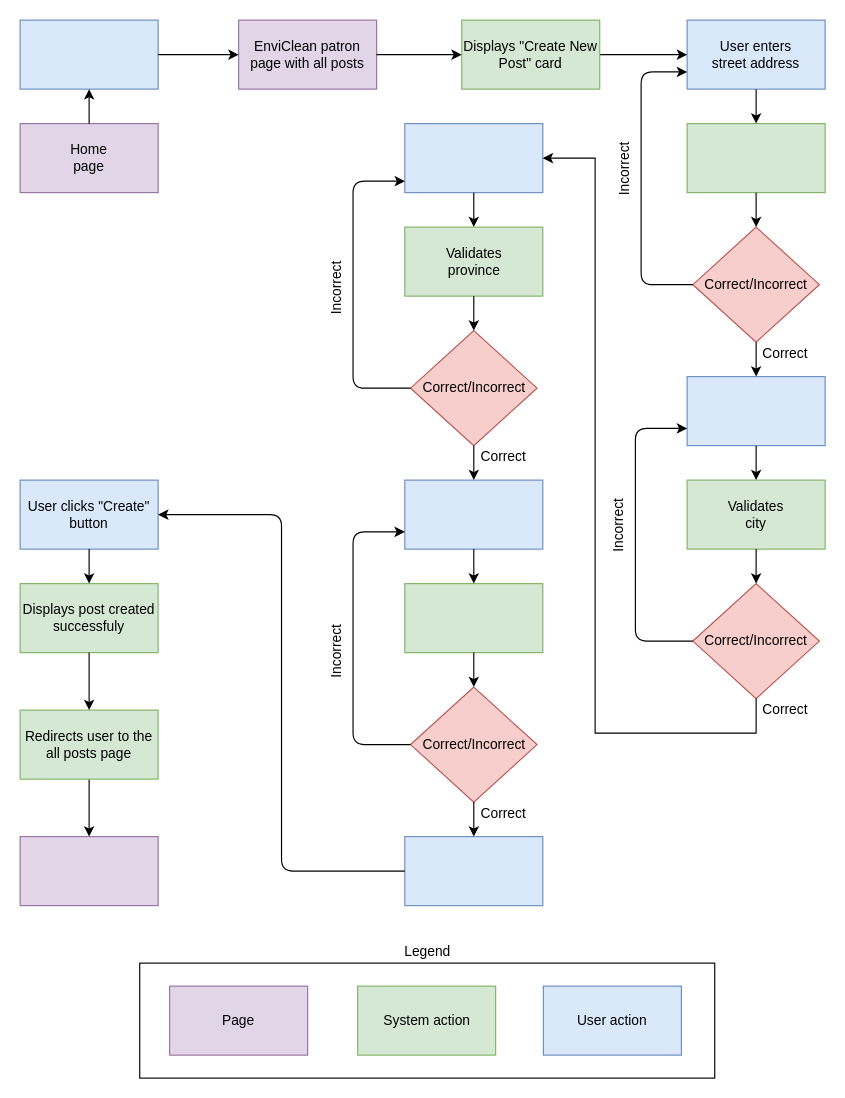
Image size: 845x1098. Some labels were removed from this diagram. Here are the shapes that lost their labels. From the top down, the box of each, then its label:
(19, 19, 158, 89): User clicks on "EnviClean Patron" button
(404, 122, 543, 193): User enters province
(686, 122, 825, 193): Validates street address
(686, 375, 825, 446): User enters city
(404, 479, 543, 549): User enters zip code
(404, 582, 543, 653): Validates zip code
(19, 835, 158, 906): All posts page with newly created post on top
(404, 835, 543, 906): User uploads image
